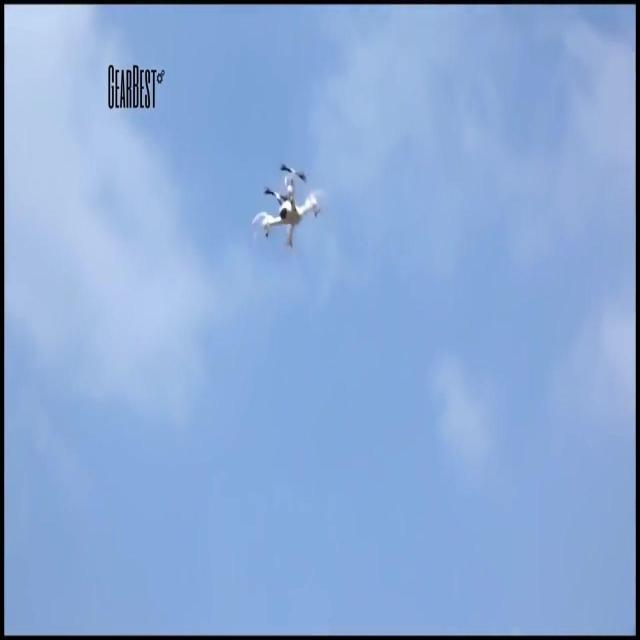drone: (251, 163, 323, 253)
